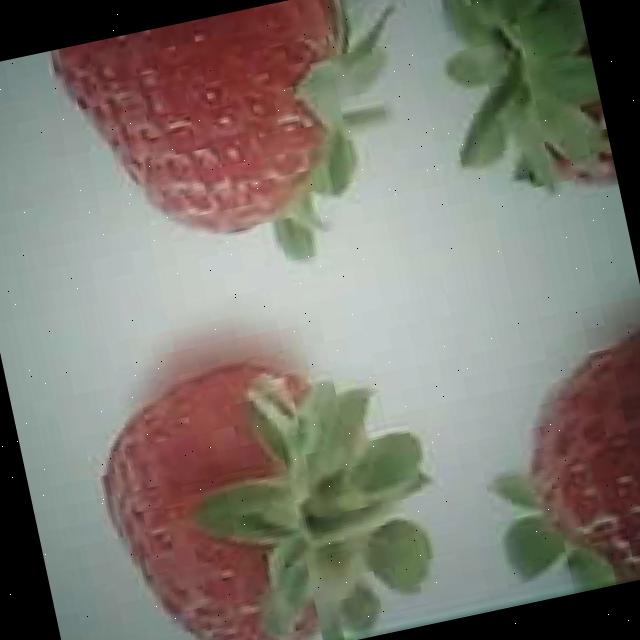strawberry: (80, 330, 453, 640), (52, 0, 403, 288)
